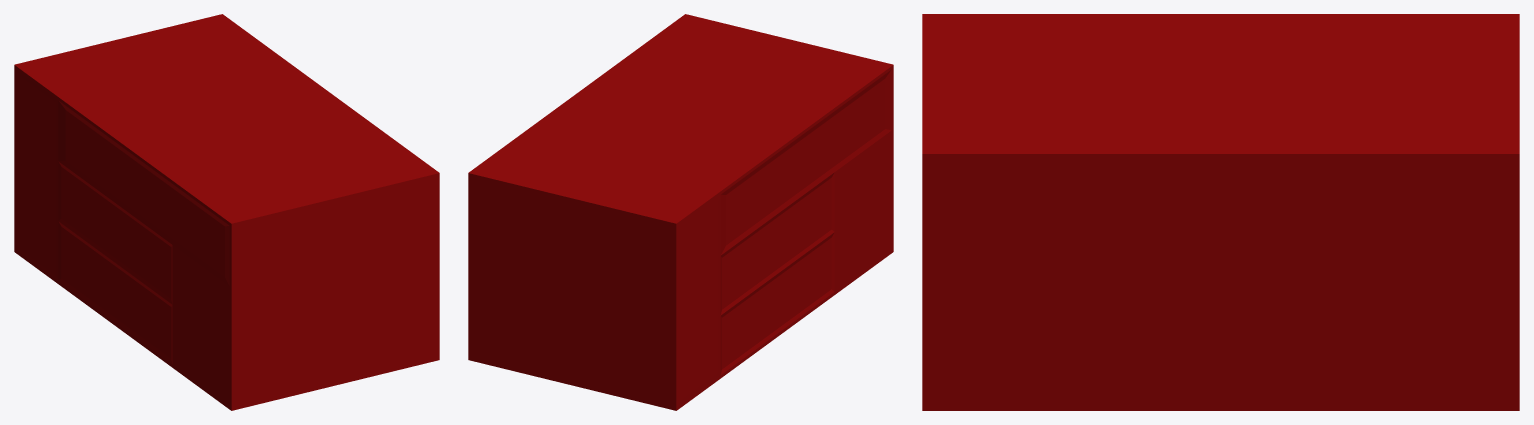
The model's file is desk_low.fbx.
The picture shows the model from 3 angles, left to right: view 1: azimuth 30°, elevation 25°; view 2: azimuth 150°, elevation 25°; view 3: azimuth 270°, elevation 25°; orthographic projection. The views are drawn at different scales.
Parts seen in each view (by area): view 1: low_poly; view 2: low_poly; view 3: low_poly.
Part boxes in pixels (x1,y1,x2,y2): low_poly: [14, 14, 439, 410]; low_poly: [468, 14, 893, 410]; low_poly: [922, 14, 1519, 410].
Size of the model in its own units: 112 by 96.33 by 203.
